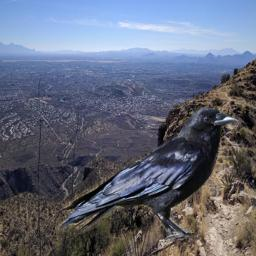Crow: (56, 103, 242, 246)
